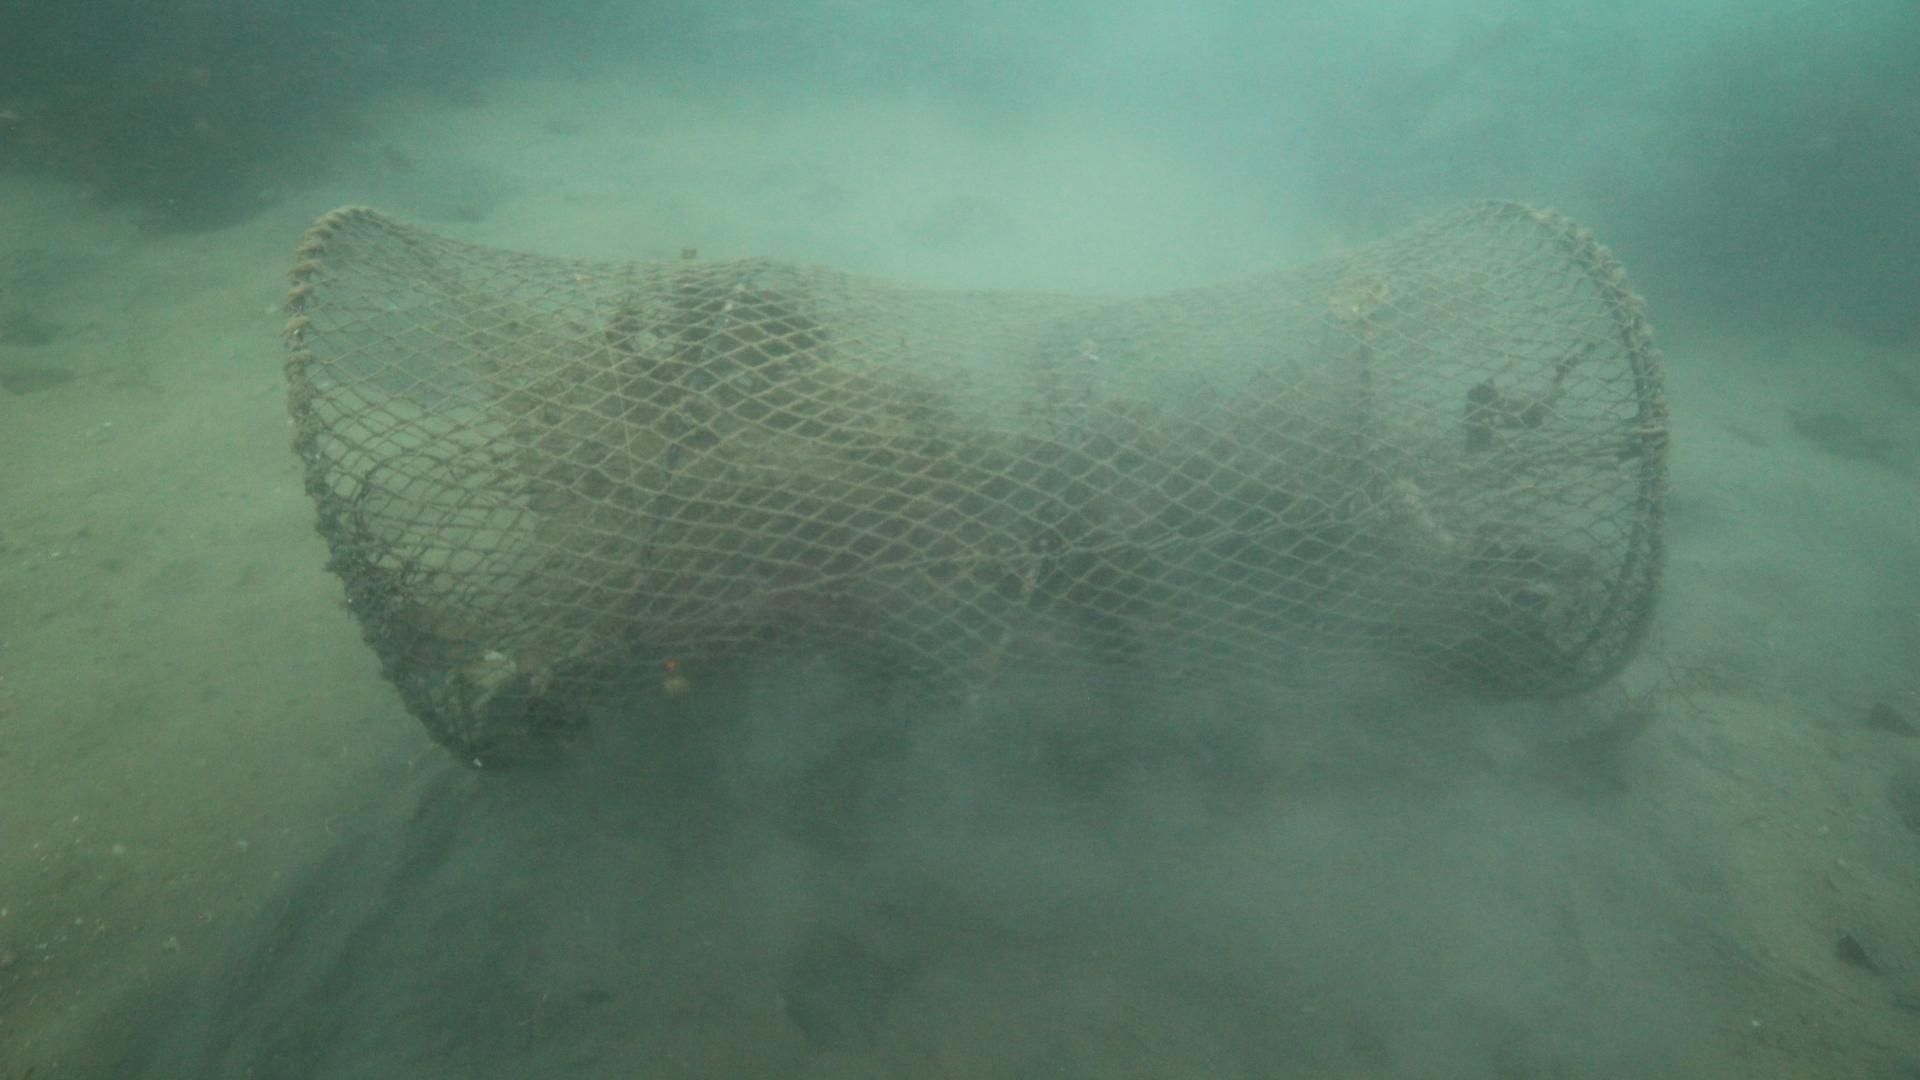spring fish trap: (281, 202, 1673, 771)
